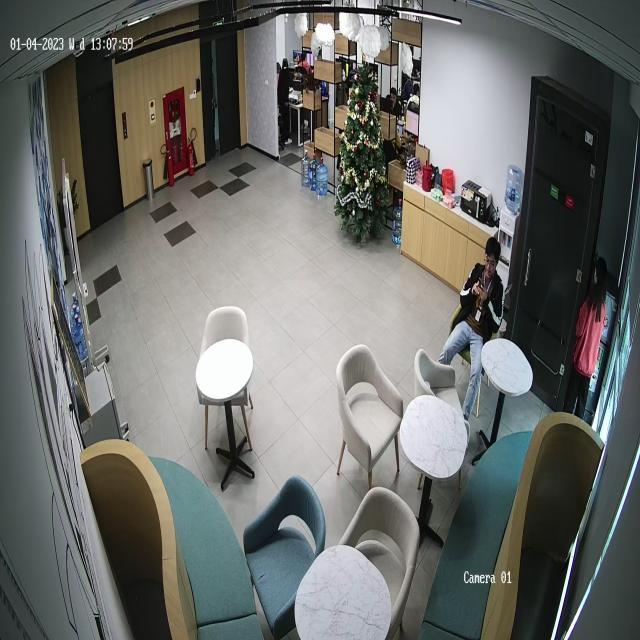person: (439, 236, 505, 424), (568, 257, 609, 420), (277, 58, 294, 145), (382, 86, 400, 116)
